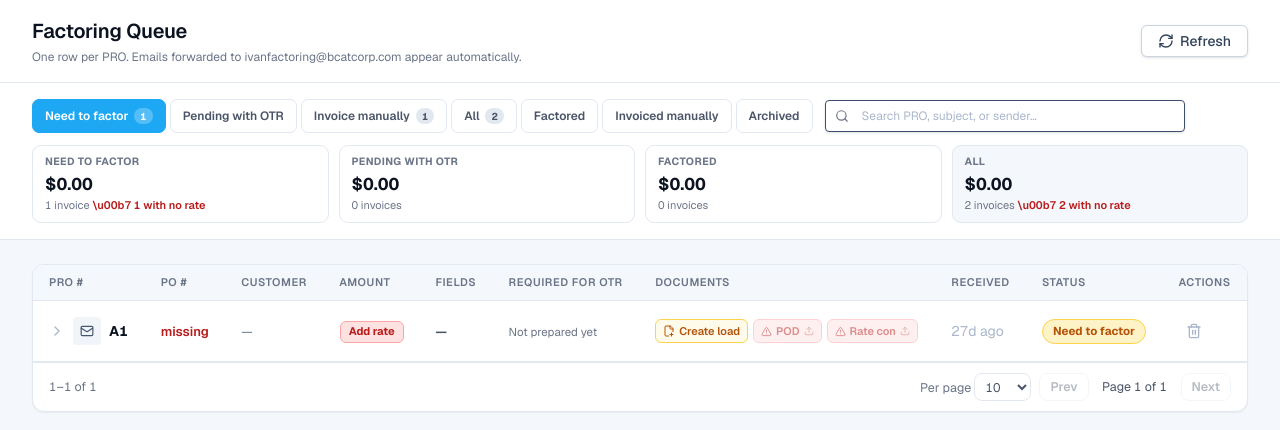
Test: invoicing by hand › flags a No Buy broker on the row and files it under Invoice manually
Expected: the text "B2" is not shown
Click the button "Invoice manually 1". click: (374, 116)
box: 301,99 -> 447,133
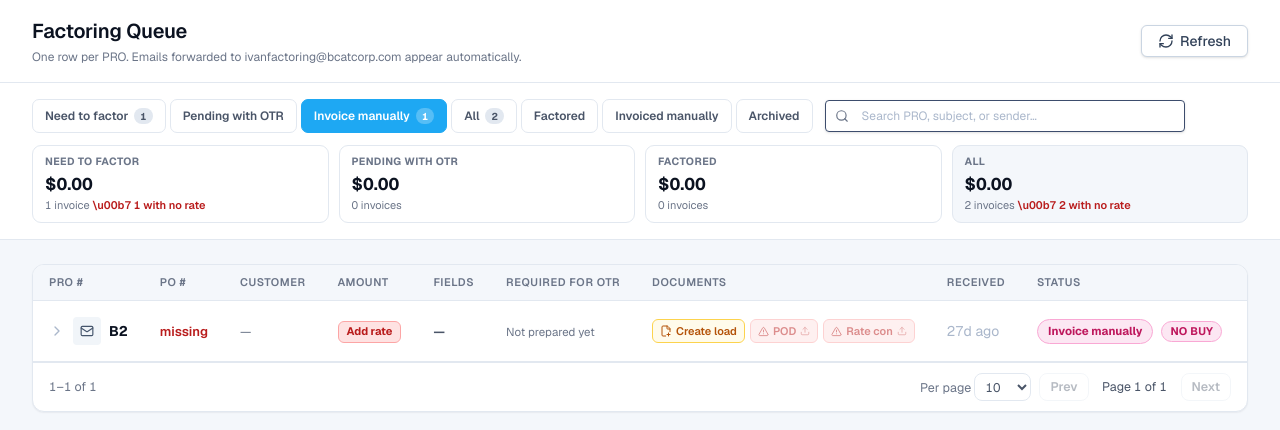
Result: the text "B2" is shown at 109,322 -> 128,340
Result: the text "NO BUY" is shown at 1161,321 -> 1222,342
Result: the text "A1" is gone
